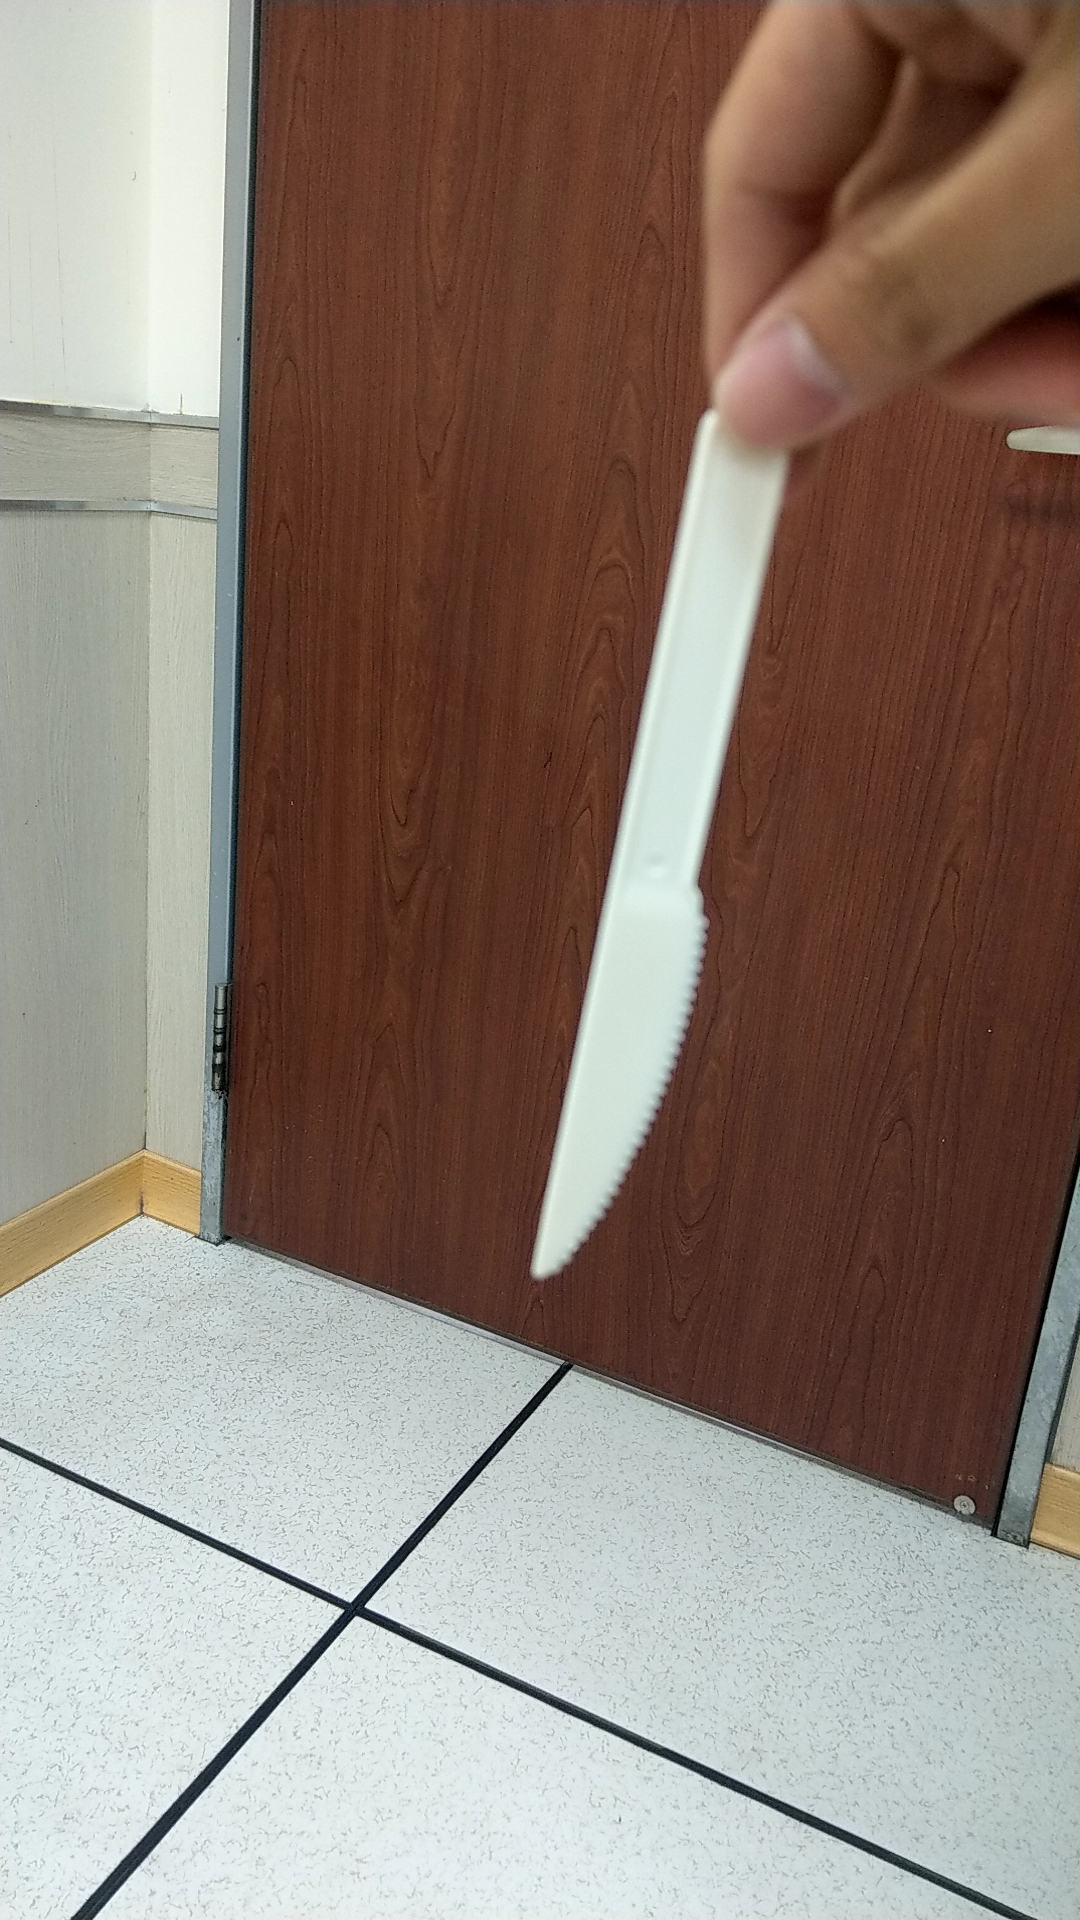knife: (493, 407, 808, 1313)
